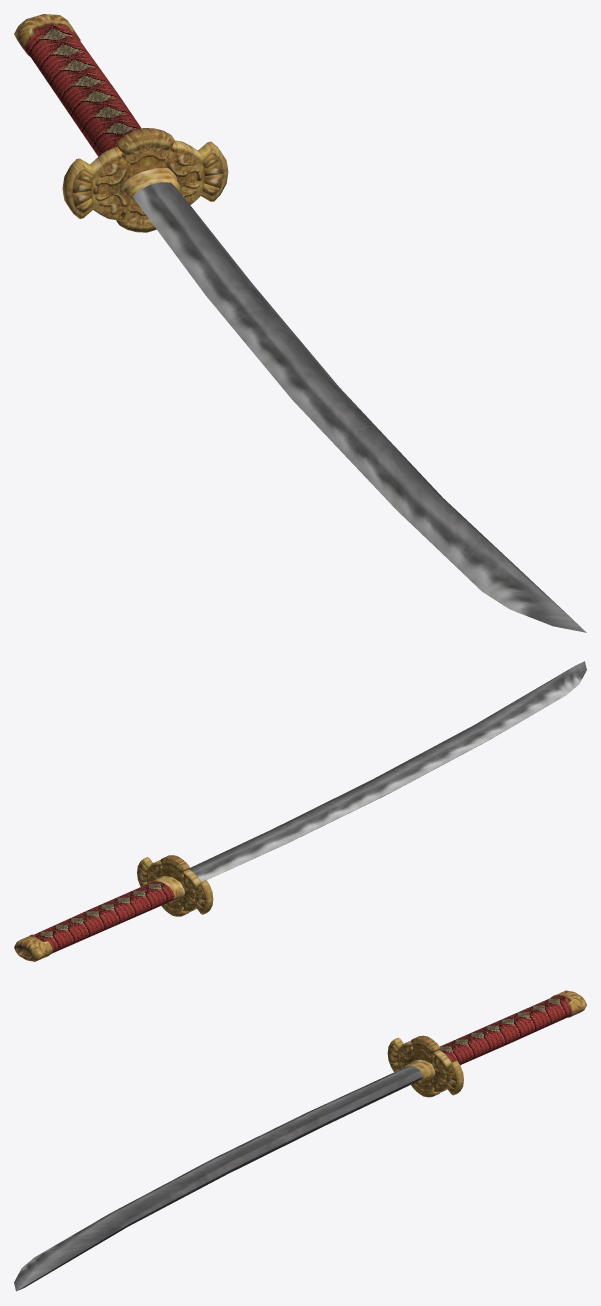
File: weapon-dragon-sword.glb
The picture shows the model from 3 angles, top to bottom: view 1: azimuth 30°, elevation 25°; view 2: azimuth 150°, elevation 25°; view 3: azimuth 330°, elevation 25°; orthographic projection. The views are drawn at different scales.
Parts seen in each view (by area): view 1: weapon; view 2: weapon; view 3: weapon.
Boxes of the visible parts, box(x1,y1,x2,y2) form: weapon: box(14, 14, 586, 632); weapon: box(14, 661, 586, 961); weapon: box(14, 990, 586, 1291).
Bounding box in the file's own units: 0.2254 × 0.0801 × 1.1.
Materials: 3 (3 with a texture image).
